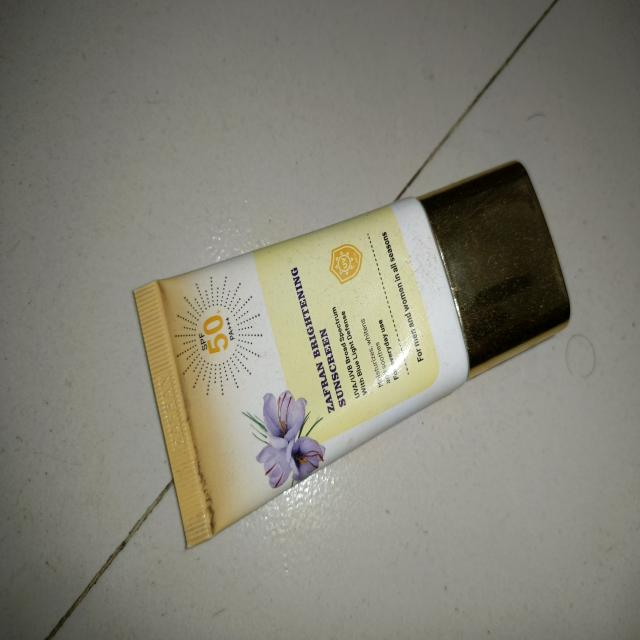Squeeze Tube: (99, 148, 599, 524)
